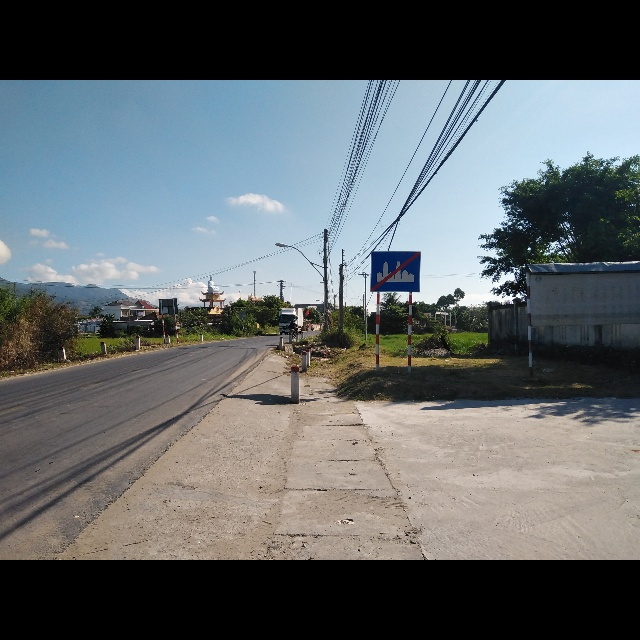Hết khu đông dân cư: (368, 250, 422, 293)
